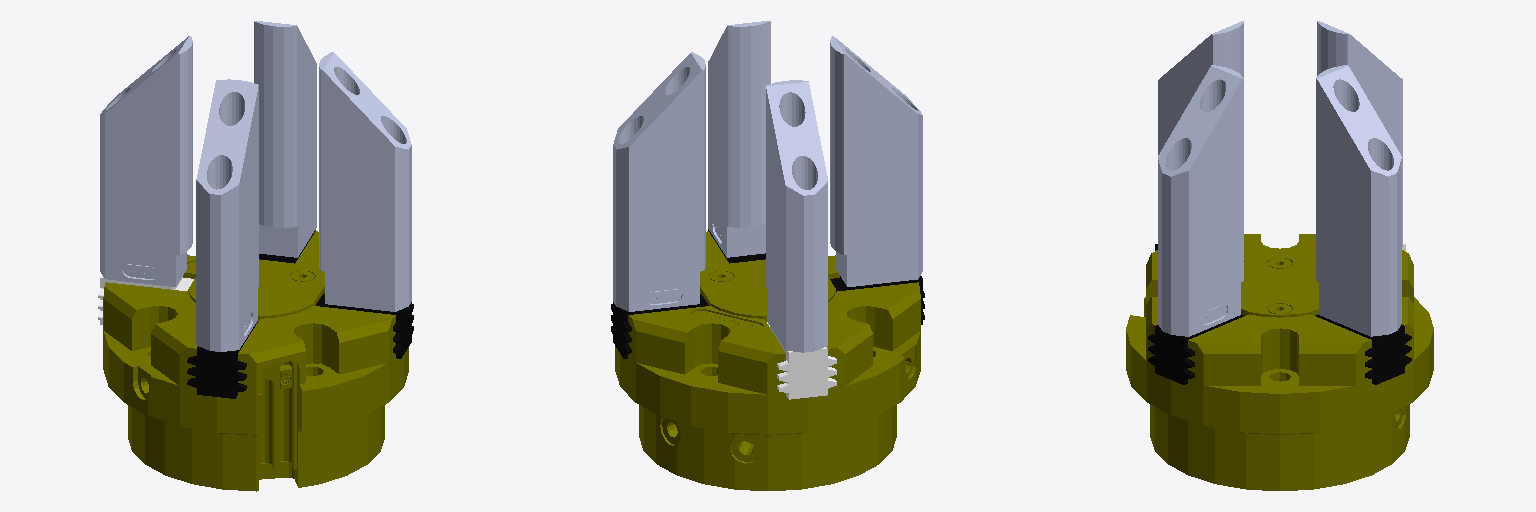
URDF robot description (pzv_64):
<?xml version="1.0" ?>
<!-- =================================================================================== -->
<!-- |    This document was autogenerated by xacro from pzv_64.urdf.xacro              | -->
<!-- |    EDITING THIS FILE BY HAND IS NOT RECOMMENDED                                 | -->
<!-- =================================================================================== -->
<robot name="pzv_64">
  <!--degrees to radians-->
  <!-- xacro:pzv_64_base_link prefix="" meshType="dae" / -->
  <!-- xacro:pzv_64_fingers_link prefix="" meshType="dae" / -->
  <!-- xacro:pzv_64_transmission prefix=""  / -->
  <!-- links -->
  <link name="pzv_base_link">
    <inertial>
      <origin rpy="0 0 0" xyz="0.00042957 -0.00042711 0.019104"/>
      <mass value="0.1209"/>
      <inertia ixx="4.7826E-05" ixy="-9.1279E-07" ixz="1.0214E-07" iyy="4.6015E-05" iyz="-5.5318E-08" izz="7.477E-05"/>
    </inertial>
    <visual>
      <origin rpy="0 0 0" xyz="0 0 0"/>
      <geometry>
        <mesh filename="package://pzv_64_description/meshes/pvz_base.dae"/>
      </geometry>
      <material name="">
        <color rgba="0.50196 0.50196 0 1"/>
      </material>
    </visual>
    <collision>
      <origin rpy="0 0 0" xyz="0 0 0"/>
      <geometry>
        <mesh filename="package://pzv_64_description/meshes/pvz_base.dae"/>
      </geometry>
    </collision>
  </link>
  <link name="pzv_trans_1">
    <inertial>
      <origin rpy="0 0 0" xyz="1.4929E-10 -0.013586 -0.00041877"/>
      <mass value="0.0038281"/>
      <inertia ixx="2.8349E-07" ixy="3.8104E-17" ixz="1.0125E-14" iyy="9.4836E-08" iyz="-8.3614E-09" izz="2.9125E-07"/>
    </inertial>
    <visual>
      <origin rpy="0 0 1.570796" xyz="0.0013 -0.027 -0.00645"/>
      <geometry>
        <mesh filename="package://pzv_64_description/meshes/pvz_trans.dae"/>
      </geometry>
      <material name="">
        <color rgba="0.066667 0.066667 0.066667 1"/>
      </material>
    </visual>
    <collision>
      <origin rpy="0 0 1.570796" xyz="0.0013 -0.027 -0.00645"/>
      <geometry>
        <mesh filename="package://pzv_64_description/meshes/pvz_trans.dae"/>
      </geometry>
    </collision>
  </link>
  <link name="pzv_trans_2">
    <inertial>
      <origin rpy="0 0 0" xyz="1.4929E-10 -0.013586 -0.00041877"/>
      <mass value="0.0038281"/>
      <inertia ixx="2.8349E-07" ixy="3.8104E-17" ixz="1.0125E-14" iyy="9.4836E-08" iyz="-8.3614E-09" izz="2.9125E-07"/>
    </inertial>
    <visual>
      <origin rpy="0 0 1.570796" xyz="0.0002 -0.027 -0.00645"/>
      <geometry>
        <mesh filename="package://pzv_64_description/meshes/pvz_trans.dae"/>
      </geometry>
      <material name="">
        <color rgba="0.066667 0.066667 0.066667 1"/>
      </material>
    </visual>
    <collision>
      <origin rpy="0 0 1.570796" xyz="0.0002 -0.027 -0.00645"/>
      <geometry>
        <mesh filename="package://pzv_64_description/meshes/pvz_trans.dae"/>
      </geometry>
    </collision>
  </link>
  <link name="pzv_trans_3">
    <inertial>
      <origin rpy="0 0 0" xyz="1.4929E-10 -0.013586 -0.00041877"/>
      <mass value="0.0038281"/>
      <inertia ixx="2.8349E-07" ixy="3.8104E-17" ixz="1.0125E-14" iyy="9.4836E-08" iyz="-8.3614E-09" izz="2.9125E-07"/>
    </inertial>
    <visual>
      <origin rpy="0 0 1.570796" xyz="-0.0013 -0.027 -0.00645"/>
      <geometry>
        <mesh filename="package://pzv_64_description/meshes/pvz_trans.dae"/>
      </geometry>
      <material name="">
        <color rgba="0.066667 0.066667 0.066667 1"/>
      </material>
    </visual>
    <collision>
      <origin rpy="0 0 1.570796" xyz="-0.0013 -0.027 -0.00645"/>
      <geometry>
        <mesh filename="package://pzv_64_description/meshes/pvz_trans.dae"/>
      </geometry>
    </collision>
  </link>
  <link name="pzv_trans_4">
    <inertial>
      <origin rpy="0 0 0" xyz="0 0 0"/>
      <mass value="0"/>
      <inertia ixx="0" ixy="0" ixz="0" iyy="0" iyz="0" izz="0"/>
    </inertial>
    <visual>
      <origin rpy="0 0 1.570796" xyz="-0.0002 -0.027 -0.00645"/>
      <geometry>
        <mesh filename="package://pzv_64_description/meshes/pvz_trans.dae"/>
      </geometry>
      <material name="">
        <color rgba="1 1 1 1"/>
      </material>
    </visual>
    <collision>
      <origin rpy="0 0 1.570796" xyz="-0.0002 -0.027 -0.00645"/>
      <geometry>
        <mesh filename="package://pzv_64_description/meshes/pvz_trans.dae"/>
      </geometry>
    </collision>
  </link>
  <joint name="pzv_prismatic_1" type="prismatic">
    <origin rpy="0 0 2.3562" xyz="-0.025725 -0.027563 0.034766"/>
    <parent link="pzv_base_link"/>
    <child link="pzv_trans_1"/>
    <axis xyz="0 1 0"/>
    <limit effort="300" lower="-0.009" upper="0.0045" velocity="1"/>
    <dynamics damping="0.3" friction="0.2"/>
  </joint>
  <joint name="pzv_prismatic_2" type="prismatic">
    <origin rpy="0 0 -2.3562" xyz="0.026854 -0.026563 0.034766"/>
    <parent link="pzv_base_link"/>
    <child link="pzv_trans_2"/>
    <axis xyz="0 1 0"/>
    <limit effort="300" lower="-0.009" upper="0.0045" velocity="1"/>
    <mimic joint="pzv_prismatic_1" multiplier="1" offset="0"/>
    <dynamics damping="0.3" friction="0.2"/>
  </joint>
  <joint name="pzv_prismatic_3" type="prismatic">
    <origin rpy="0 0 -0.7854" xyz="0.027554 0.0257016 0.034766"/>
    <parent link="pzv_base_link"/>
    <child link="pzv_trans_3"/>
    <axis xyz="0 1 0"/>
    <limit effort="300" lower="-0.009" upper="0.0045" velocity="1"/>
    <mimic joint="pzv_prismatic_1" multiplier="1" offset="0"/>
    <dynamics damping="0.3" friction="0.2"/>
  </joint>
  <joint name="pzv_prismatic_4" type="prismatic">
    <origin rpy="0 0 0.7854" xyz="-0.026725 0.027016 0.034766"/>
    <parent link="pzv_base_link"/>
    <child link="pzv_trans_4"/>
    <axis xyz="0 1 0"/>
    <limit effort="300" lower="-0.009" upper="0.0045" velocity="1"/>
    <mimic joint="pzv_prismatic_1" multiplier="1" offset="0"/>
    <dynamics damping="0.3" friction="0.2"/>
  </joint>
  <!-- links -->
  <link name="pzv_finger_1">
    <inertial>
      <origin rpy="0 0 0" xyz="9.074E-06 -0.011739 0.03368"/>
      <mass value="0.0098228"/>
      <inertia ixx="2.9703E-06" ixy="-1.6622E-10" ixz="3.1061E-09" iyy="2.7246E-06" iyz="2.3497E-07" izz="4.7539E-07"/>
    </inertial>
    <visual>
      <origin rpy="0 0 0" xyz="0.0013 -0.0187 0.00645"/>
      <geometry>
        <mesh filename="package://pzv_64_description/meshes/pvz_finger.dae"/>
      </geometry>
      <material name="">
        <color rgba="0.79216 0.81961 0.93333 1"/>
      </material>
    </visual>
    <collision>
      <origin rpy="0 0 0" xyz="0.0013 -0.0187 0.00645"/>
      <geometry>
        <mesh filename="package://pzv_64_description/meshes/pvz_finger.dae"/>
      </geometry>
    </collision>
  </link>
  <link name="pzv_finger_2">
    <inertial>
      <origin rpy="0 0 0" xyz="9.074E-06 -0.011739 0.03368"/>
      <mass value="0.0098228"/>
      <inertia ixx="2.9703E-06" ixy="-1.6622E-10" ixz="3.1061E-09" iyy="2.7246E-06" iyz="2.3497E-07" izz="4.7539E-07"/>
    </inertial>
    <visual>
      <origin rpy="0 0 0" xyz="0.0002 -0.0187 0.00645"/>
      <geometry>
        <mesh filename="package://pzv_64_description/meshes/pvz_finger.dae"/>
      </geometry>
      <material name="">
        <color rgba="0.79216 0.81961 0.93333 1"/>
      </material>
    </visual>
    <collision>
      <origin rpy="0 0 0" xyz="0.0002 -0.0187 0.00645"/>
      <geometry>
        <mesh filename="package://pzv_64_description/meshes/pvz_finger.dae"/>
      </geometry>
    </collision>
  </link>
  <link name="pzv_finger_3">
    <inertial>
      <origin rpy="0 0 0" xyz="9.074E-06 -0.011739 0.03368"/>
      <mass value="0.0098228"/>
      <inertia ixx="2.9703E-06" ixy="-1.6622E-10" ixz="3.1061E-09" iyy="2.7246E-06" iyz="2.3497E-07" izz="4.7539E-07"/>
    </inertial>
    <visual>
      <origin rpy="0 0 0" xyz="-0.0013 -0.0187 0.00645"/>
      <geometry>
        <mesh filename="package://pzv_64_description/meshes/pvz_finger.dae"/>
      </geometry>
      <material name="">
        <color rgba="0.79216 0.81961 0.93333 1"/>
      </material>
    </visual>
    <collision>
      <origin rpy="0 0 0" xyz="-0.0013 -0.0187 0.00645"/>
      <geometry>
        <mesh filename="package://pzv_64_description/meshes/pvz_finger.dae"/>
      </geometry>
    </collision>
  </link>
  <link name="pzv_finger_4">
    <inertial>
      <origin rpy="0 0 0" xyz="9.074E-06 -0.011739 0.03368"/>
      <mass value="0.0098228"/>
      <inertia ixx="2.9703E-06" ixy="-1.6622E-10" ixz="3.1061E-09" iyy="2.7246E-06" iyz="2.3497E-07" izz="4.7539E-07"/>
    </inertial>
    <visual>
      <origin rpy="0 0 0" xyz="-0.0002 -0.0187 0.00645"/>
      <geometry>
        <mesh filename="package://pzv_64_description/meshes/pvz_finger.dae"/>
      </geometry>
      <material name="">
        <color rgba="0.79216 0.81961 0.93333 1"/>
      </material>
    </visual>
    <collision>
      <origin rpy="0 0 0" xyz="-0.0002 -0.0187 0.00645"/>
      <geometry>
        <mesh filename="package://pzv_64_description/meshes/pvz_finger.dae"/>
      </geometry>
    </collision>
  </link>
  <transmission name="trans_prismatic_joint_translational_1_effort">
    <type>transmission_interface/SimpleTransmission</type>
    <joint name="pzv_prismatic_1">
      <hardwareInterface>hardware_interface/EffortJointInterface</hardwareInterface>
    </joint>
    <actuator name="prismatic_joint_translational_1_motor_effort">
      <hardwareInterface>hardware_interface/EffortJointInterface</hardwareInterface>
      <mechanicalReduction>1</mechanicalReduction>
    </actuator>
  </transmission>
  <gazebo>
    <plugin filename="libroboticsgroup_upatras_gazebo_mimic_joint_plugin.so" name="translational_2">
      <joint>pzv_prismatic_1</joint>
      <mimicJoint>pzv_prismatic_2</mimicJoint>
      <multiplier>1</multiplier>
      <offset>0</offset>
    </plugin>
  </gazebo>
  <gazebo>
    <plugin filename="libroboticsgroup_upatras_gazebo_mimic_joint_plugin.so" name="translational_3">
      <joint>pzv_prismatic_1</joint>
      <mimicJoint>pzv_prismatic_3</mimicJoint>
      <multiplier>1</multiplier>
      <offset>0</offset>
    </plugin>
  </gazebo>
  <gazebo>
    <plugin filename="libroboticsgroup_upatras_gazebo_mimic_joint_plugin.so" name="translational_4">
      <joint>pzv_prismatic_1</joint>
      <mimicJoint>pzv_prismatic_4</mimicJoint>
      <multiplier>1</multiplier>
      <offset>0</offset>
    </plugin>
  </gazebo>
  <!-- links -->
  <!--link name="world" /-->
  <!--
        <joint name="fixed" type="fixed">
            <parent link="world" />
            <child link="${prefix}base_link" />
        </joint>
-->
  <joint name="pzv_finger_1" type="fixed">
    <origin rpy="0 0 0" xyz="0 0 0.00"/>
    <parent link="pzv_trans_1"/>
    <child link="pzv_finger_1"/>
    <axis xyz="0 0 0"/>
  </joint>
  <joint name="pzv_finger_2" type="fixed">
    <origin rpy="0 0 0" xyz="0 0 0.00"/>
    <parent link="pzv_trans_2"/>
    <child link="pzv_finger_2"/>
    <axis xyz="0 0 0"/>
  </joint>
  <joint name="pzv_finger_3" type="fixed">
    <origin rpy="0 0 0" xyz="0 0 0.00"/>
    <parent link="pzv_trans_3"/>
    <child link="pzv_finger_3"/>
    <axis xyz="0 0 0"/>
  </joint>
  <joint name="pzv_finger_4" type="fixed">
    <origin rpy="0 0 0" xyz="0 0 0.00"/>
    <parent link="pzv_trans_4"/>
    <child link="pzv_finger_4"/>
    <axis xyz="0 0 0"/>
  </joint>
</robot>

--- Render facts (derived) ---
3 views of the same robot in one strip: view 1: azimuth 30°, elevation 25°; view 2: azimuth 150°, elevation 25°; view 3: azimuth 270°, elevation 25° (orthographic).
Model pzv_64 with 9 links and 8 joints (4 prismatic, 4 fixed), rooted at pzv_base_link, posed all joints at 0.
Visible links, largest first — view 1: pzv_base_link, pzv_finger_2, pzv_finger_4, pzv_finger_1, pzv_finger_3, pzv_trans_1, pzv_trans_2, pzv_trans_4; view 2: pzv_base_link, pzv_finger_3, pzv_finger_1, pzv_finger_4, pzv_finger_2, pzv_trans_4, pzv_trans_3, pzv_trans_1; view 3: pzv_base_link, pzv_finger_2, pzv_finger_3, pzv_finger_4, pzv_finger_1, pzv_trans_2, pzv_trans_3.
Link boxes in pixels (box(x1,y1,x2,y2)): pzv_base_link: box(103, 231, 408, 491); pzv_finger_2: box(319, 52, 411, 311); pzv_finger_4: box(100, 36, 192, 286); pzv_finger_1: box(196, 79, 258, 351); pzv_finger_3: box(254, 21, 316, 257); pzv_trans_1: box(187, 321, 257, 398); pzv_trans_2: box(316, 293, 413, 358); pzv_trans_4: box(98, 275, 193, 324); pzv_base_link: box(615, 231, 920, 490); pzv_finger_3: box(613, 52, 705, 311); pzv_finger_1: box(830, 36, 922, 286); pzv_finger_4: box(766, 80, 827, 352); pzv_finger_2: box(708, 21, 770, 257); pzv_trans_4: box(767, 322, 836, 399); pzv_trans_3: box(611, 294, 708, 358); pzv_trans_1: box(830, 276, 924, 324); pzv_base_link: box(1126, 234, 1433, 490); pzv_finger_2: box(1158, 65, 1243, 336); pzv_finger_3: box(1316, 65, 1401, 336); pzv_finger_4: box(1317, 21, 1402, 246); pzv_finger_1: box(1158, 21, 1243, 154); pzv_trans_2: box(1148, 314, 1244, 384); pzv_trans_3: box(1315, 314, 1411, 384).
Bounding box of the posed robot: 0.076 × 0.076 × 0.1052 m (x, y, z).
9 mesh visuals loaded from 3 distinct referenced files (3 Collada DAE).
